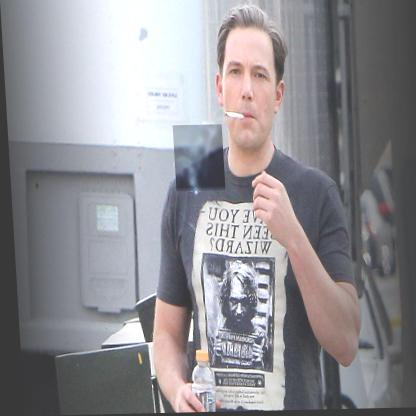smoke: (171, 126, 223, 193)
